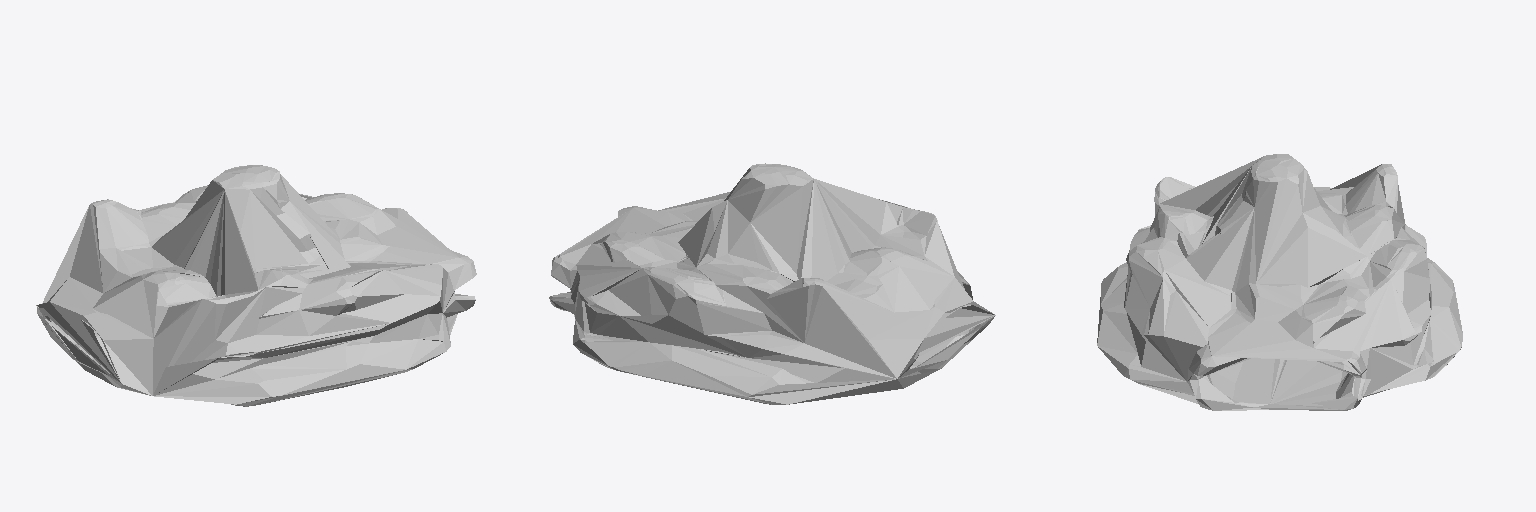
Rendered from cave.obj.
The picture shows the model from 3 angles: view 1: azimuth 30°, elevation 25°; view 2: azimuth 150°, elevation 25°; view 3: azimuth 270°, elevation 25°; orthographic projection.
Visible parts, largest first — view 1: Torus; view 2: Torus; view 3: Torus.
Boxes of the visible parts, box(x1,y1,x2,y2) form: Torus: box(36, 165, 476, 406); Torus: box(549, 163, 995, 404); Torus: box(1097, 154, 1462, 410).
Bounding box in the file's own units: 10.22 × 4.6 × 8.83.